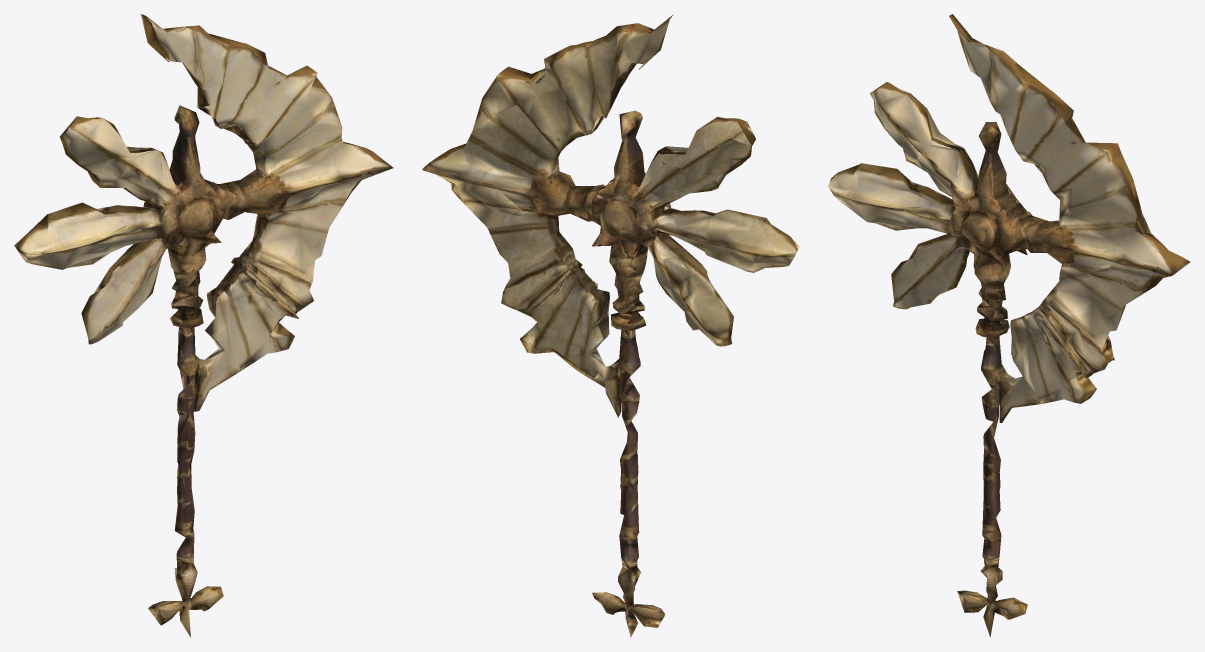
File: 1016_staff.glb
3 views of the same model, side by side, from view 1: azimuth 30°, elevation 25°; view 2: azimuth 150°, elevation 25°; view 3: azimuth 330°, elevation 25° (orthographic). The views are drawn at different scales.
Parts seen in each view (by area): view 1: Model; view 2: Model; view 3: Model.
Part boxes in pixels (x1,y1,x2,y2): Model: (14,14,393,637); Model: (422,14,799,637); Model: (828,14,1190,637).
Size of the model in its own units: 0.6061 by 1 by 0.0907.
1 material, 1 textured.
